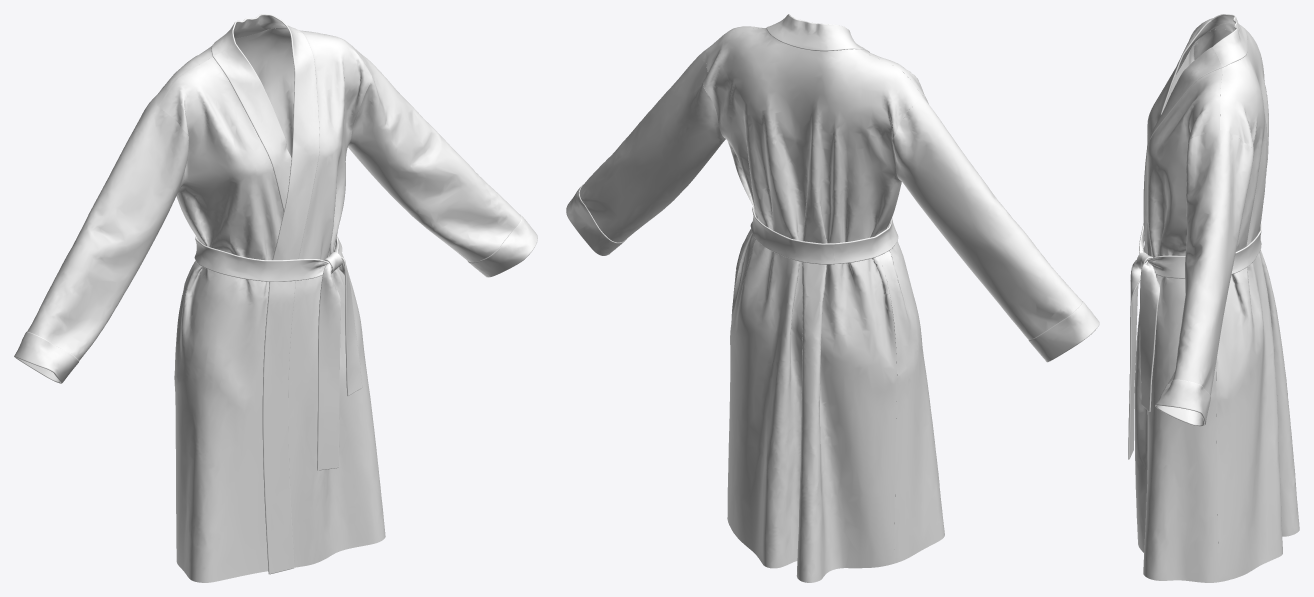
Rendered from robe.glb.
3 views of the same model, side by side, from view 1: azimuth 30°, elevation 25°; view 2: azimuth 150°, elevation 25°; view 3: azimuth 270°, elevation 25° (orthographic).
Parts seen in each view (by area): view 1: Pattern_58090, Pattern_58088, Pattern_508537, Pattern_508535_1, Pattern_58089, Pattern_598518, Pattern_10808, Pattern_58090_1, Pattern_598517, Pattern_508538, Pattern_508535, Pattern2D_586118; view 2: Pattern_10808, Pattern_508537, Pattern_508535_1, Pattern_58090, Pattern_598517, Pattern2D_586118, Pattern_508538, Pattern_508535; view 3: Pattern_10808, Pattern_58088, Pattern_508535_1, Pattern_598518, Pattern_508535, Pattern_58089, Pattern_598517, Pattern2D_586118, Pattern_58090_1, Pattern_58090, Pattern_508537.
Boxes of the visible parts, left/top/right/bottom form: Pattern_58090: left=158, top=57, right=283, bottom=582; Pattern_58088: left=288, top=34, right=385, bottom=567; Pattern_508537: left=27, top=103, right=188, bottom=360; Pattern_508535_1: left=348, top=55, right=520, bottom=262; Pattern_58089: left=262, top=30, right=319, bottom=574; Pattern_598518: left=317, top=256, right=362, bottom=470; Pattern_10808: left=149, top=28, right=335, bottom=448; Pattern_58090_1: left=212, top=43, right=291, bottom=211; Pattern_598517: left=194, top=235, right=342, bottom=281; Pattern_508538: left=14, top=331, right=78, bottom=383; Pattern_508535: left=468, top=214, right=537, bottom=277; Pattern2D_586118: left=211, top=14, right=301, bottom=55; Pattern_10808: left=703, top=28, right=921, bottom=582; Pattern_508537: left=892, top=95, right=1082, bottom=340; Pattern_508535_1: left=579, top=48, right=725, bottom=242; Pattern_58090: left=861, top=49, right=944, bottom=563; Pattern_598517: left=750, top=206, right=898, bottom=264; Pattern2D_586118: left=766, top=14, right=860, bottom=51; Pattern_508538: left=1028, top=301, right=1099, bottom=362; Pattern_508535: left=566, top=184, right=626, bottom=255; Pattern_10808: left=1215, top=23, right=1299, bottom=582; Pattern_58088: left=1134, top=68, right=1222, bottom=582; Pattern_508535_1: left=1168, top=130, right=1253, bottom=395; Pattern_598518: left=1128, top=260, right=1159, bottom=459; Pattern_508535: left=1155, top=379, right=1210, bottom=426; Pattern_58089: left=1143, top=47, right=1222, bottom=249; Pattern_598517: left=1139, top=223, right=1261, bottom=278; Pattern2D_586118: left=1211, top=14, right=1247, bottom=67; Pattern_58090_1: left=1147, top=20, right=1219, bottom=144; Pattern_58090: left=1147, top=18, right=1215, bottom=146; Pattern_508537: left=1194, top=29, right=1231, bottom=59.
Bounding box in the file's own units: 111 × 108 × 31.96.
Materials: 3 (3 with a texture image).
